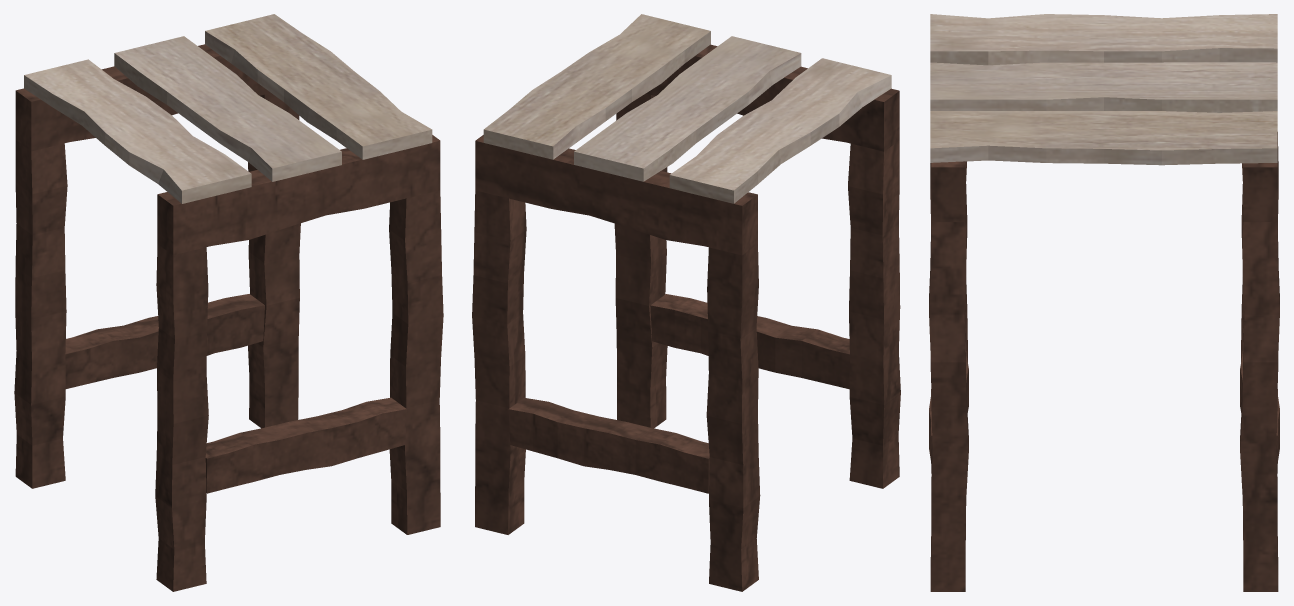
The model's file is Wooden platform5.glb.
3 views of the same model, side by side, from view 1: azimuth 30°, elevation 25°; view 2: azimuth 150°, elevation 25°; view 3: azimuth 270°, elevation 25° (orthographic). The views are drawn at different scales.
Parts seen in each view (by area): view 1: Cube.021, Cube.024, Cube.023, Cube.022, Cube.025; view 2: Cube.021, Cube.024, Cube.023, Cube.022, Cube.025; view 3: Cube.021, Cube.023, Cube.022, Cube.024, Cube.025.
Part boxes in pixels (x1,y1,x2,y2): Cube.021: (24,14,432,203); Cube.024: (14,140,208,591); Cube.023: (248,93,443,534); Cube.022: (15,44,440,255); Cube.025: (65,294,406,493); Cube.021: (483,14,891,203); Cube.024: (706,140,900,591); Cube.023: (472,93,667,534); Cube.022: (475,44,899,255); Cube.025: (508,294,849,493); Cube.021: (930,14,1277,165); Cube.023: (929,207,1279,591); Cube.022: (931,161,1277,221); Cube.024: (930,132,1278,361); Cube.025: (929,329,1279,473).
Size of the model in its own units: 5.12 by 7.2 by 5.21.
Materials: 1 (1 with a texture image).
